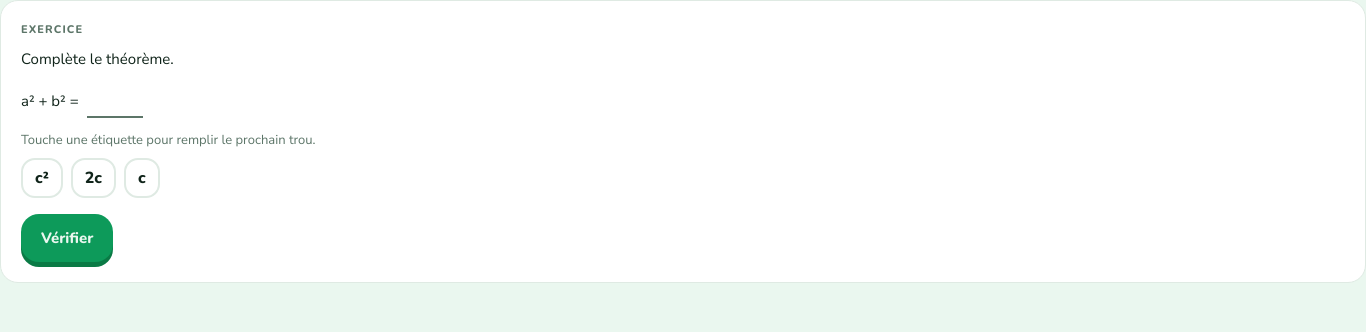
it: ExerciceWidget — fill-blank › libère le trou quand on touche l’étiquette placée
# Place c² → tile becomes disabled (used).
Click the button "c²". click: click(42, 178)
box: [21, 158, 63, 198]
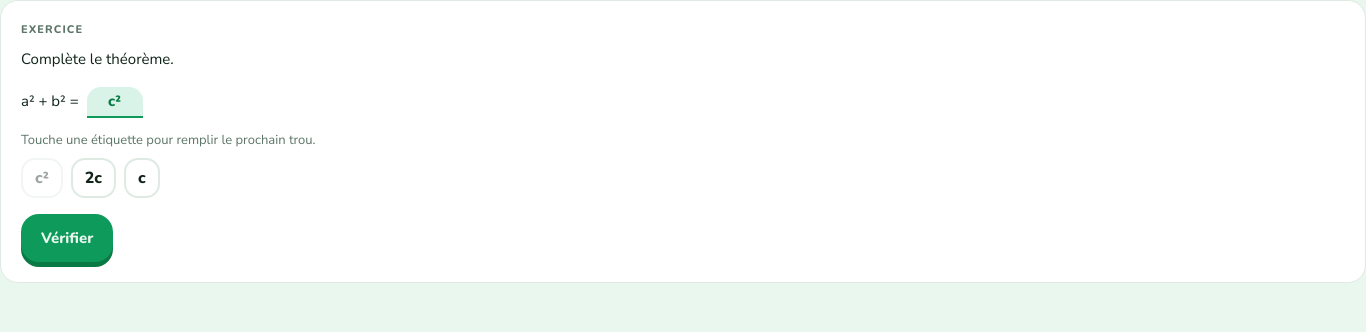
Click the button with aria-label "retirer". click: click(114, 103)
box: [86, 87, 142, 118]
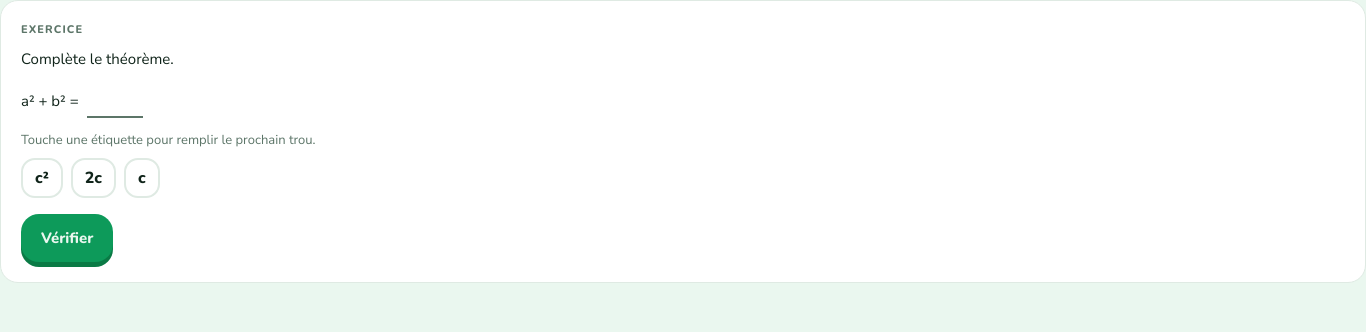
# Submitting now fails validation again → nothing sent.
Click the button "Vérifier". click: click(67, 238)
box: [21, 214, 113, 262]
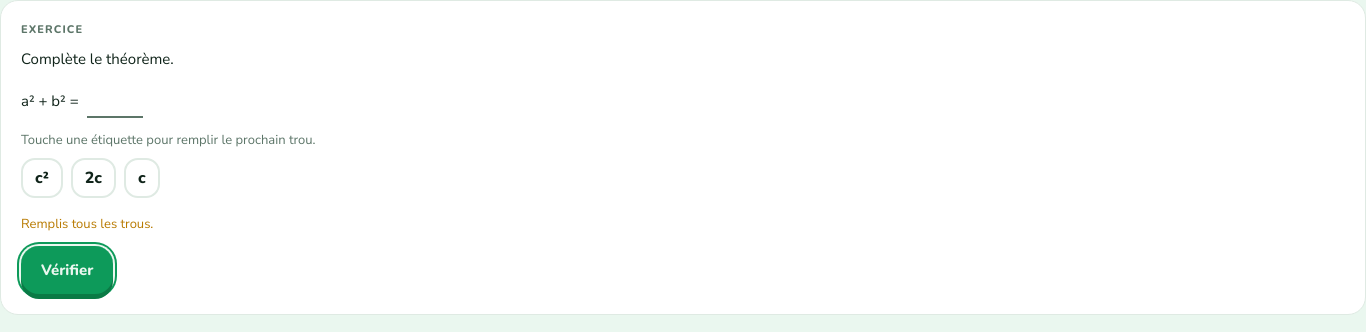
Expected: the message shows "Remplis tous les trous", [21, 215, 153, 233]
